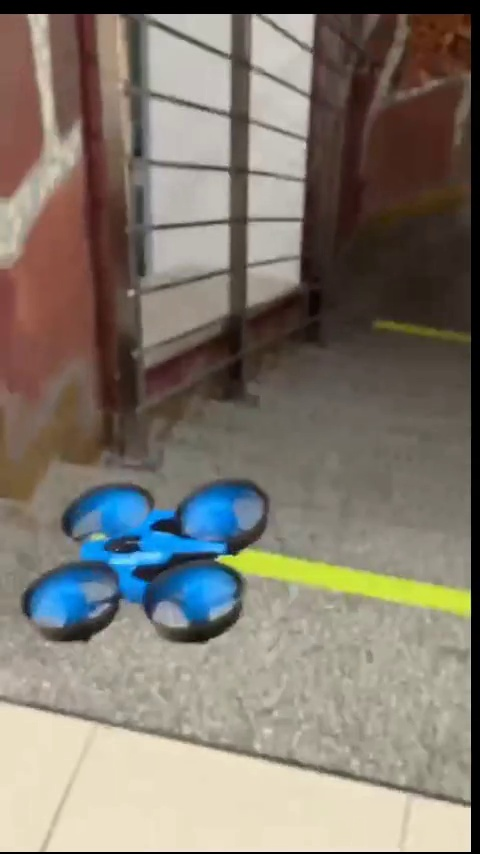drone: (32, 484, 265, 638)
